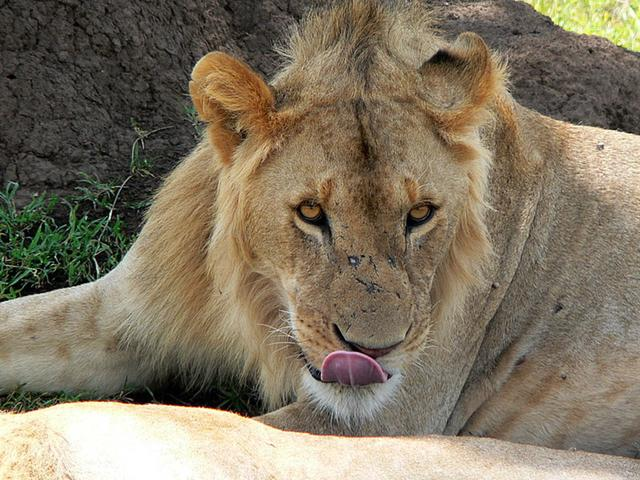lion: (1, 10, 623, 460)
